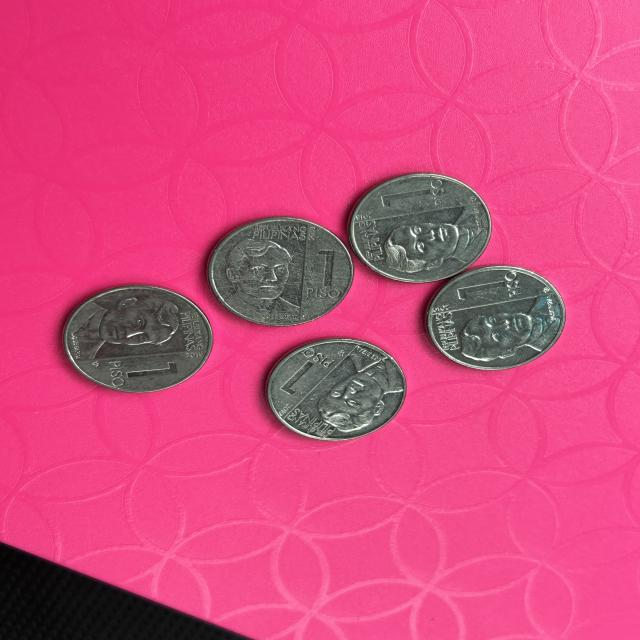1_New_Front: (380, 178, 457, 220), (269, 348, 327, 399), (454, 268, 524, 309), (104, 356, 184, 388), (307, 246, 344, 301)
